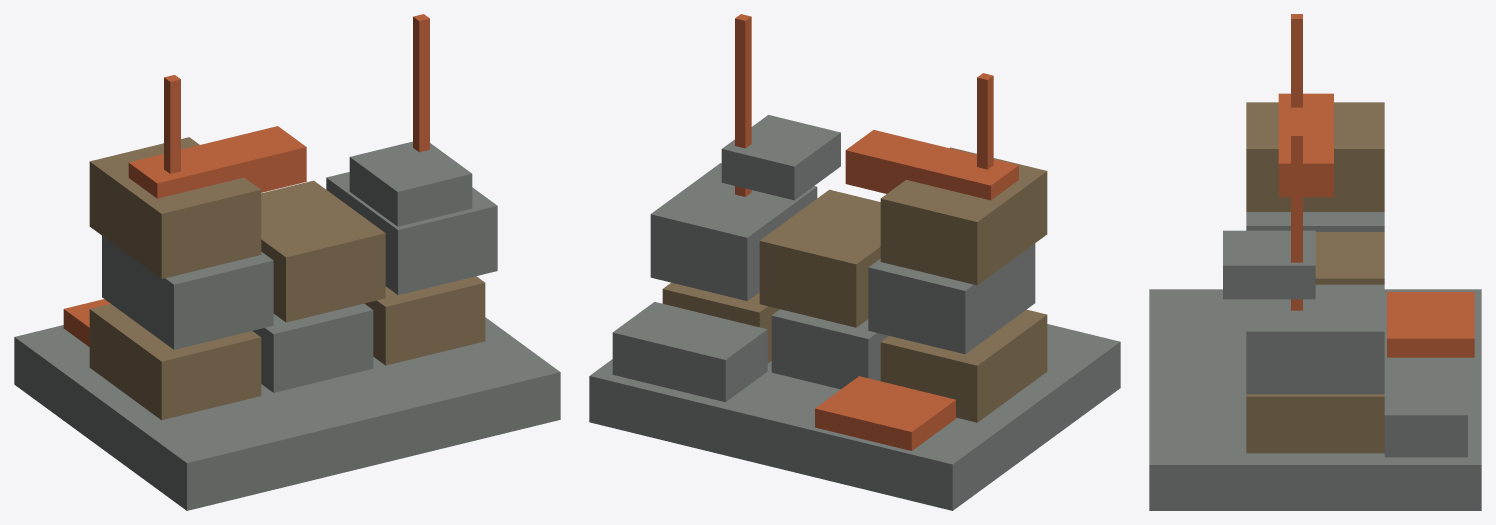
File: base_ruin_2.glb
3 renders of one model, left to right at view 1: azimuth 30°, elevation 25°; view 2: azimuth 150°, elevation 25°; view 3: azimuth 270°, elevation 25°, orthographic. The views are drawn at different scales.
Parts seen in each view (by area): view 1: footing.002, masonry.020, masonry.018, masonry.011, masonry.017, masonry.019, broken_cap.004, broken_cap.005, masonry.016, masonry.014, rebar.005, rebar.004 (+1 smaller); view 2: footing.002, masonry.020, masonry.018, masonry.019, masonry.017, fallen_stone.002, masonry.011, broken_cap.004, broken_cap.005, loose_brick.001, masonry.014, masonry.016 (+2 smaller); view 3: footing.002, masonry.019, masonry.020, masonry.016, fallen_stone.002, broken_cap.005, loose_brick.001, broken_cap.004, masonry.018, masonry.017, rebar.005, rebar.004.
Part boxes in pixels (x1,y1,x2,y2): footing.002: (14, 317, 560, 510); masonry.020: (89, 137, 261, 278); masonry.018: (261, 180, 385, 322); masonry.011: (89, 304, 261, 420); masonry.017: (102, 236, 273, 349); masonry.019: (326, 172, 497, 295); broken_cap.004: (128, 126, 306, 198); broken_cap.005: (349, 141, 472, 226); masonry.016: (364, 276, 485, 365); masonry.014: (252, 303, 373, 392); rebar.005: (413, 14, 429, 152); rebar.004: (164, 75, 180, 173); footing.002: (589, 324, 1120, 510); masonry.020: (880, 147, 1047, 285); masonry.018: (759, 189, 880, 327); masonry.019: (650, 163, 817, 300); masonry.017: (868, 243, 1035, 354); fallen_stone.002: (612, 302, 767, 402); masonry.011: (880, 309, 1047, 422); broken_cap.004: (845, 130, 1018, 200); broken_cap.005: (721, 115, 840, 200); loose_brick.001: (815, 376, 955, 450); masonry.014: (771, 309, 888, 389); masonry.016: (662, 282, 779, 363); footing.002: (1149, 289, 1481, 510); masonry.019: (1246, 284, 1384, 394); masonry.020: (1246, 102, 1384, 211); masonry.016: (1246, 394, 1384, 453); fallen_stone.002: (1384, 360, 1467, 457); broken_cap.005: (1223, 230, 1315, 299); loose_brick.001: (1387, 292, 1474, 357); broken_cap.004: (1278, 93, 1333, 197); masonry.018: (1315, 232, 1384, 284); masonry.017: (1246, 212, 1384, 231); rebar.005: (1291, 131, 1302, 310); rebar.004: (1291, 14, 1302, 107).
Size of the model in its own units: 0.9 by 0.832 by 0.72.
